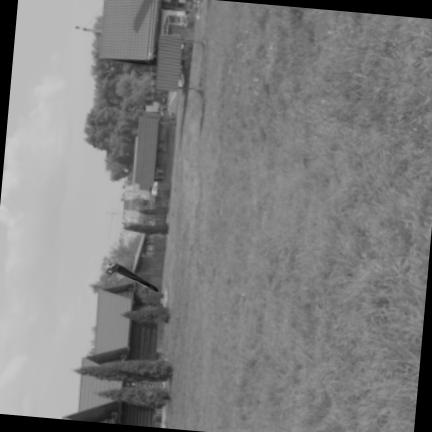Shahed: (105, 256, 158, 290)
